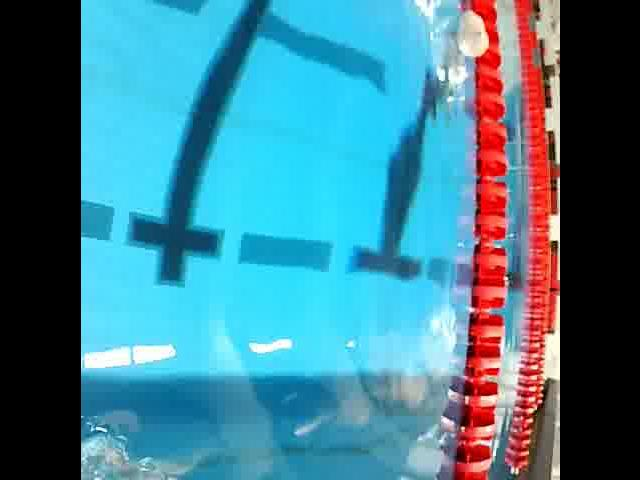Bottle: (80, 422, 198, 480), (450, 4, 492, 68)
